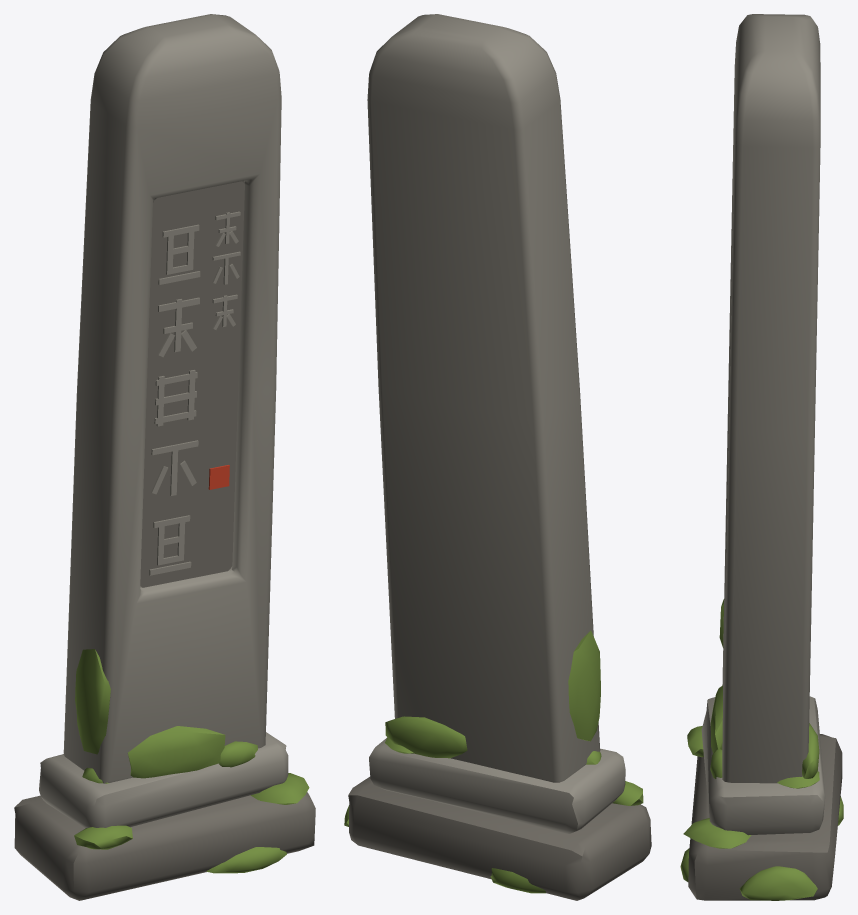
File: stone_marker.glb
3 views of the same model, side by side, from view 1: azimuth 30°, elevation 25°; view 2: azimuth 150°, elevation 25°; view 3: azimuth 270°, elevation 25° (orthographic).
Parts seen in each view (by area): view 1: stone_marker; view 2: stone_marker; view 3: stone_marker.
Boxes of the visible parts, <box> form: stone_marker: <box>14,14,315,900</box>; stone_marker: <box>344,14,651,900</box>; stone_marker: <box>680,14,843,900</box>.
Size of what is drawn, in the model's own units: 0.5438 by 1.61 by 0.285.
